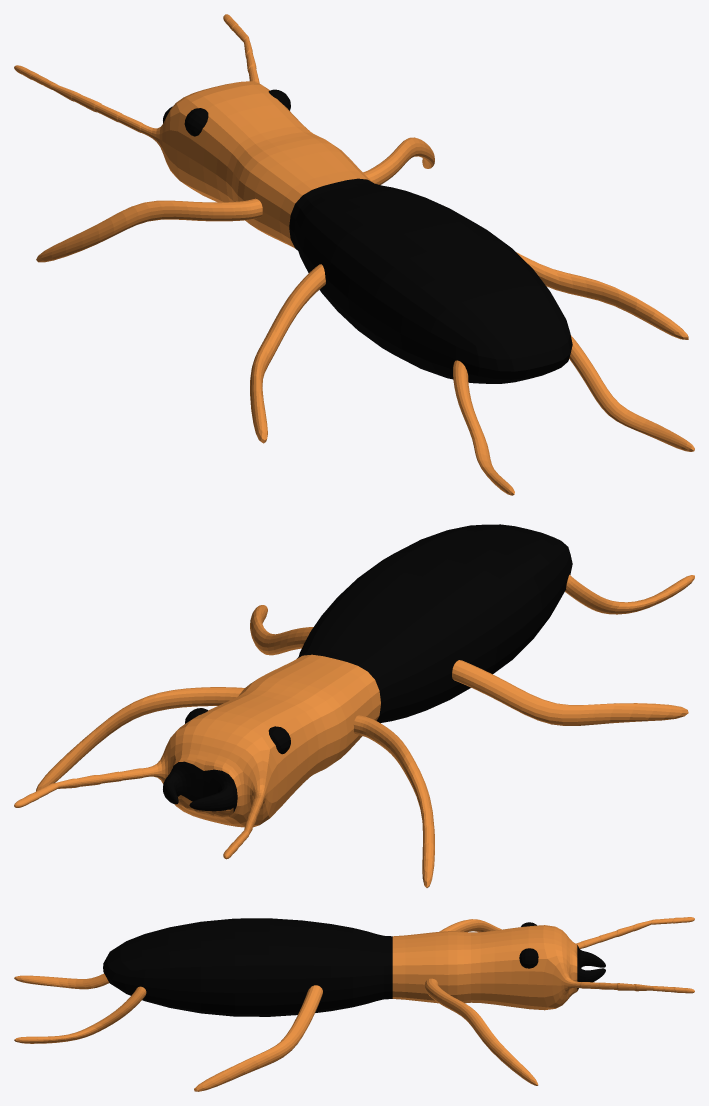
Rendered from Bombardier Beetle1.fbx.
3 views of the same model, one above another, from view 1: azimuth 30°, elevation 25°; view 2: azimuth 150°, elevation 25°; view 3: azimuth 270°, elevation 25° (orthographic). The views are drawn at different scales.
Visible parts, largest first — view 1: Cube.001, Cube.003, Cube.002, Cube.004, Cube; view 2: Cube.001, Cube.002, Cube.003, Cube.004, Cube; view 3: Cube.001, Cube.002, Cube.003, Cube.004, Cube.
Part boxes in pixels (x1,y1,x2,y2): Cube.001: (14, 14, 572, 383); Cube.003: (250, 252, 688, 443); Cube.002: (36, 137, 434, 262); Cube.004: (453, 335, 694, 495); Cube: (184, 89, 290, 136); Cube.001: (14, 524, 572, 859); Cube.002: (36, 687, 434, 887); Cube.003: (250, 605, 688, 725); Cube.004: (565, 574, 694, 614); Cube: (185, 708, 290, 754); Cube.001: (103, 917, 694, 1016); Cube.002: (425, 919, 538, 1085); Cube.003: (194, 985, 322, 1091); Cube.004: (14, 973, 146, 1043); Cube: (519, 922, 538, 968).
Size of the model in its own units: 783 by 219 by 1535.
